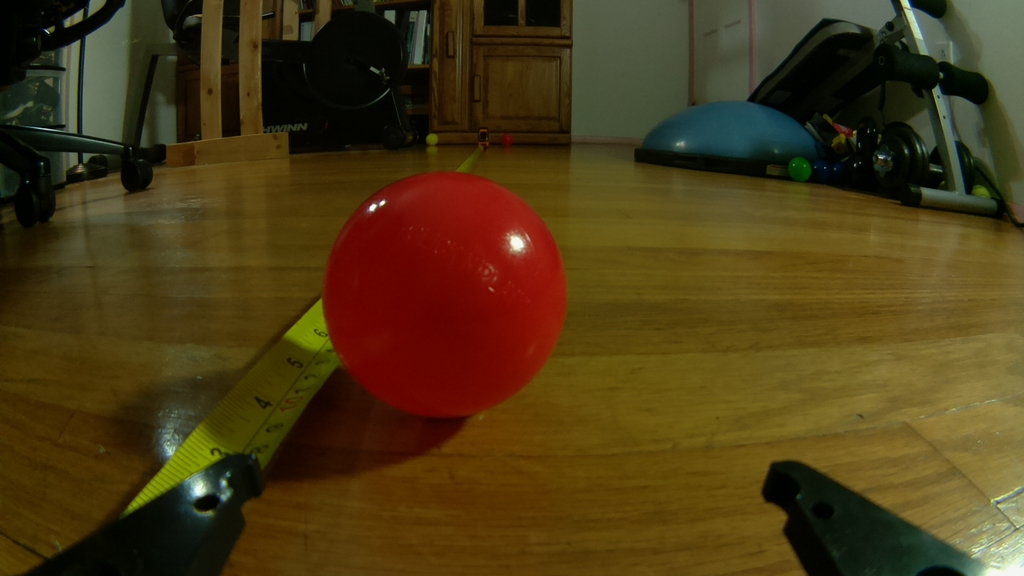ball: (498, 132, 514, 146)
